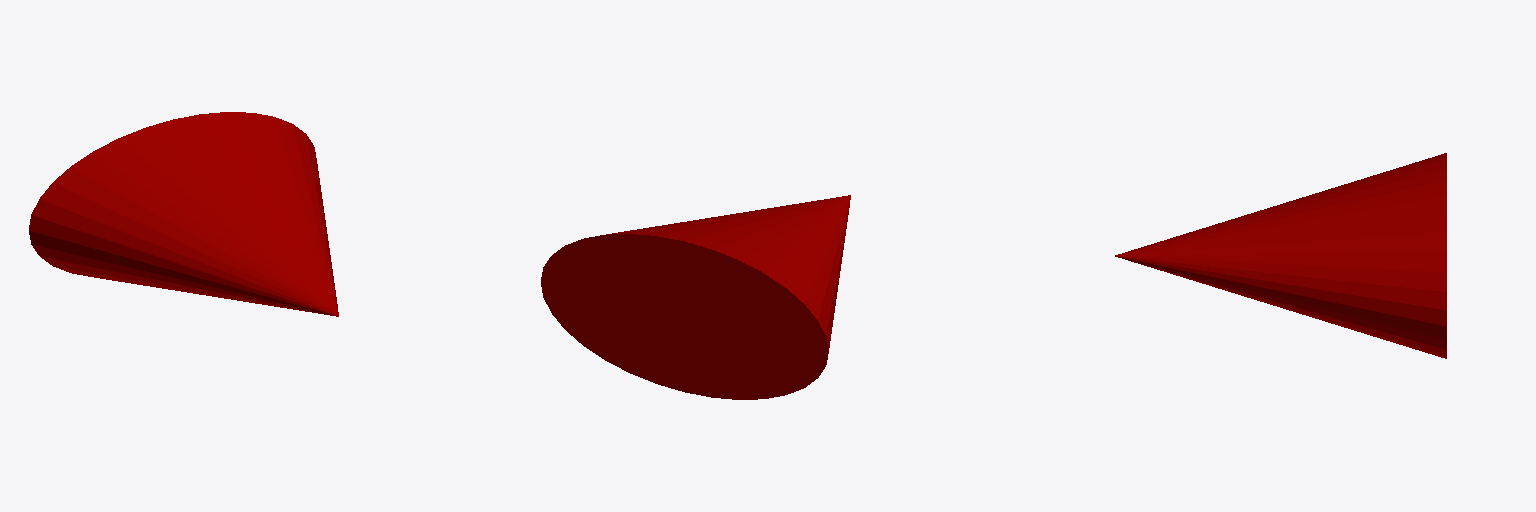
Rendered from ship.obj.
3 renders of one model, left to right at view 1: azimuth 30°, elevation 25°; view 2: azimuth 150°, elevation 25°; view 3: azimuth 270°, elevation 25°, orthographic.
Visible parts, largest first — view 1: Cone; view 2: Cone; view 3: Cone.
Boxes of the visible parts, box(x1,y1,x2,y2) form: Cone: box(29, 112, 338, 316); Cone: box(541, 195, 850, 399); Cone: box(1115, 153, 1446, 358).
Bounding box in the file's own units: 2 × 1 × 2.